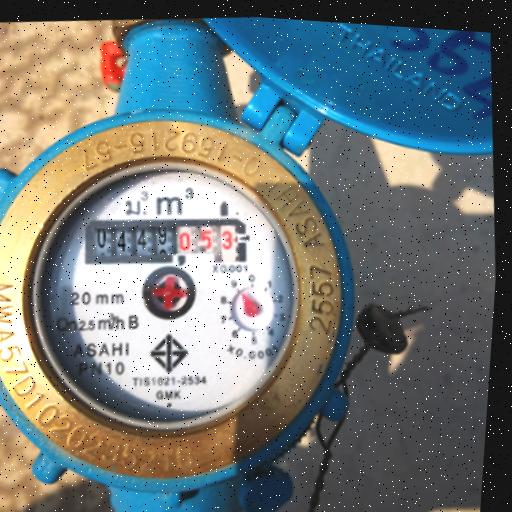0: (92, 227, 111, 259), (175, 225, 195, 255)
3: (218, 223, 239, 264)
4: (113, 225, 132, 257), (134, 226, 153, 258)
5: (197, 224, 216, 255)
9: (153, 225, 172, 257)
border_water_meter_number: (81, 207, 249, 277)
